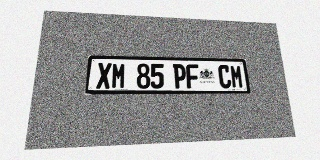5: (151, 64, 164, 89)
8: (137, 63, 150, 89)
C: (218, 65, 232, 88)
F: (186, 64, 200, 88)
M: (111, 63, 126, 89), (230, 65, 244, 88)
P: (173, 64, 187, 88)
X: (96, 63, 112, 89)
